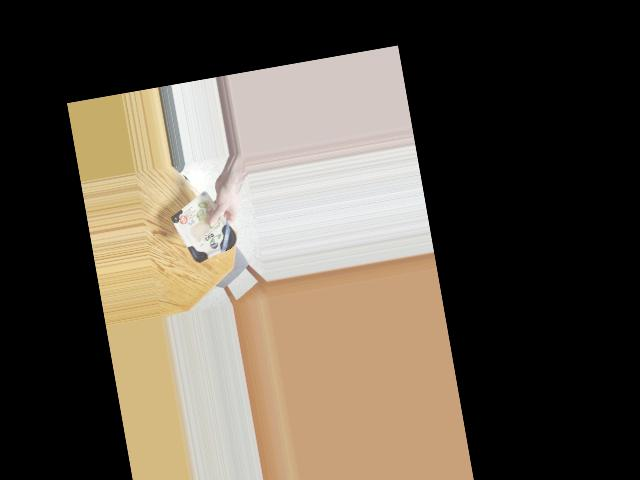cheese: (172, 199, 237, 268)
